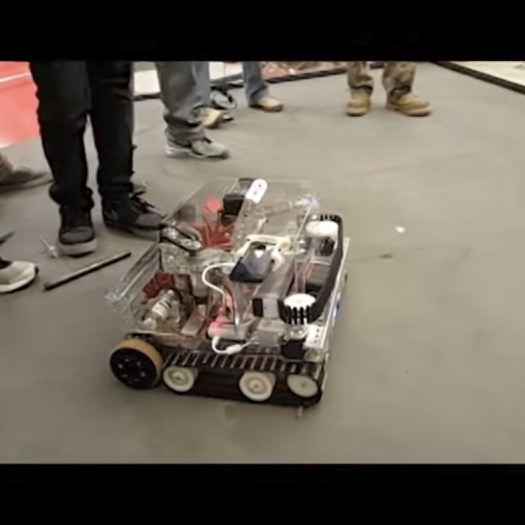robot: (101, 169, 354, 413)
